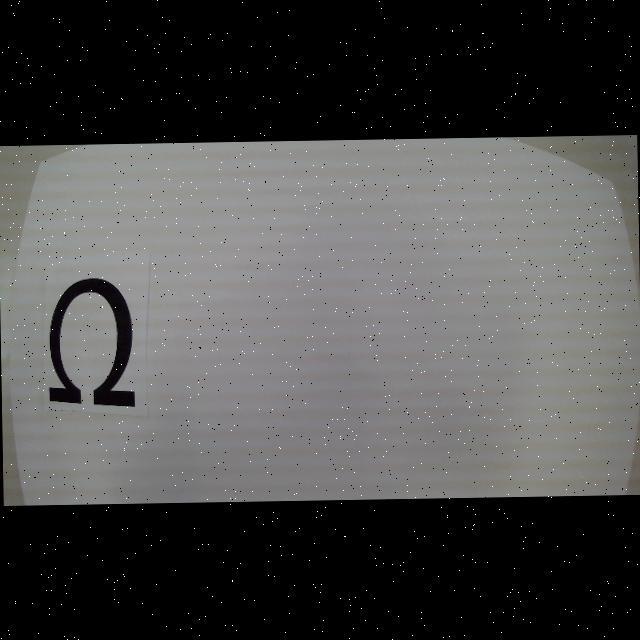OMEGA: (47, 278, 136, 408)
